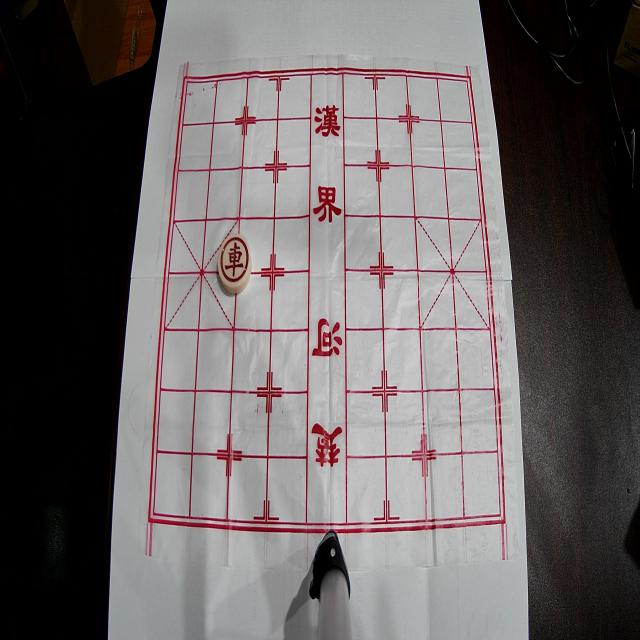red-chariot: (218, 234, 252, 294)
